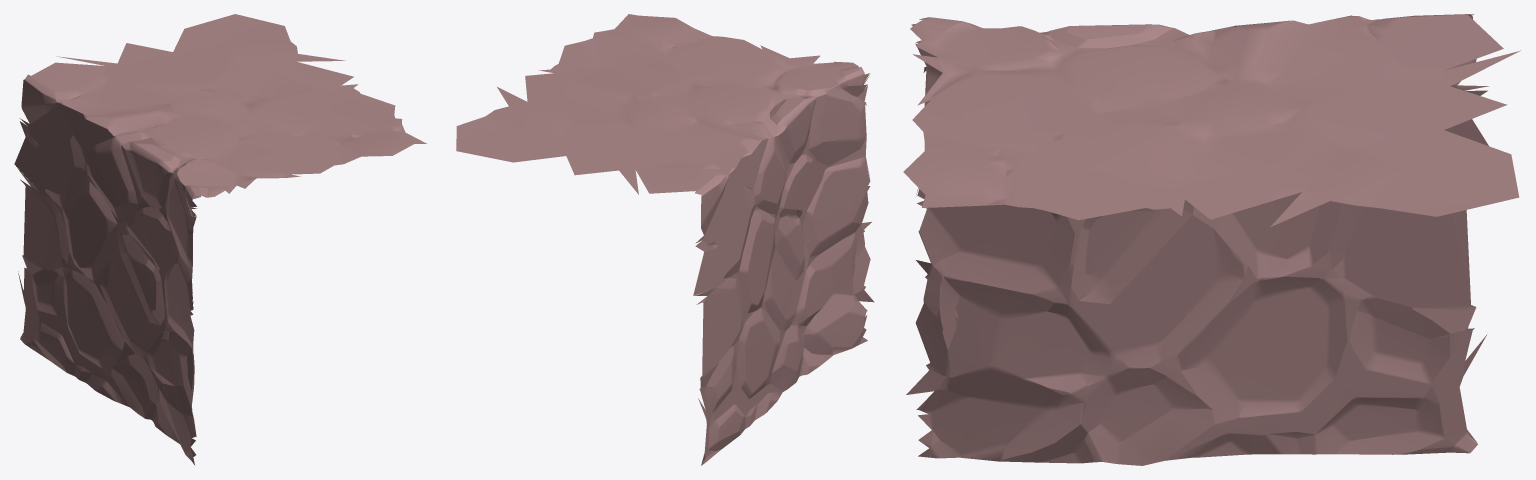
Rendered from pleateauArea1.fbx_PolyShape__46__008LODs.fbx.
The picture shows the model from 3 angles, left to right: view 1: azimuth 30°, elevation 25°; view 2: azimuth 150°, elevation 25°; view 3: azimuth 270°, elevation 25°; orthographic projection. The views are drawn at different scales.
Visible parts, largest first — view 1: PolyShape (46).008_LOD0; view 2: PolyShape (46).008_LOD0; view 3: PolyShape (46).008_LOD0.
Part boxes in pixels (x1,y1,x2,y2): PolyShape (46).008_LOD0: (14, 14, 426, 464); PolyShape (46).008_LOD0: (456, 14, 874, 465); PolyShape (46).008_LOD0: (903, 14, 1520, 465).
Size of what is drawn, in the model's own units: 4293 by 4168 by 5262.
